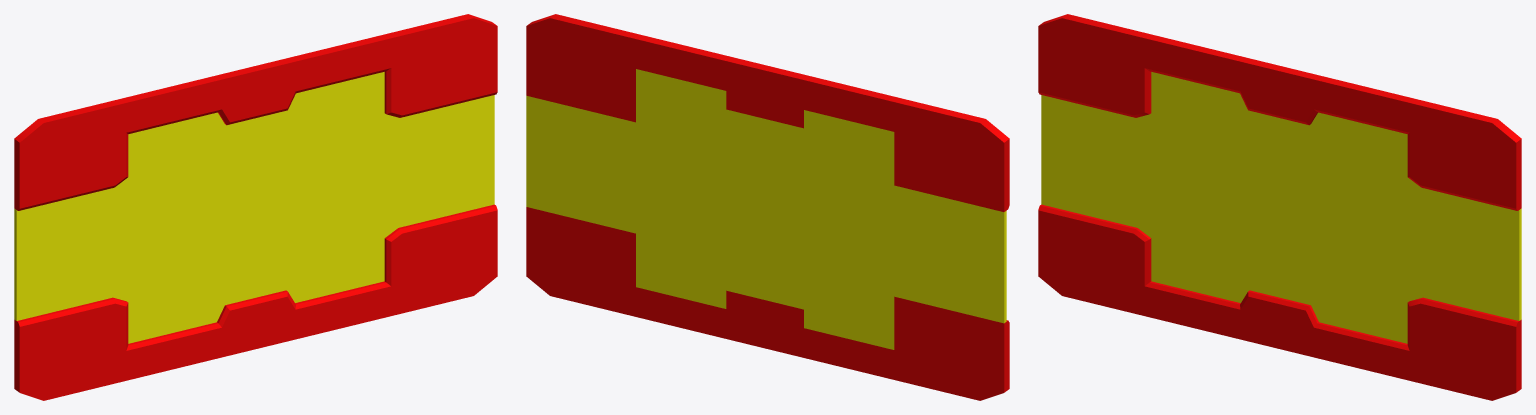
File: WallDecoPanel2_1.fbx
3 renders of one model, left to right at view 1: azimuth 30°, elevation 25°; view 2: azimuth 150°, elevation 25°; view 3: azimuth 330°, elevation 25°, orthographic.
Parts seen in each view (by area): view 1: Center_low1, Center_low; view 2: Center_low1, Center_low; view 3: Center_low1, Center_low.
Part boxes in pixels (bbox=[...]): Center_low1: bbox=[14, 72, 494, 343]; Center_low: bbox=[14, 14, 497, 400]; Center_low1: bbox=[526, 69, 1006, 349]; Center_low: bbox=[526, 14, 1009, 400]; Center_low1: bbox=[1041, 72, 1521, 343]; Center_low: bbox=[1038, 14, 1521, 400].
Bounding box in the file's own units: 180 × 100 × 3.67.
